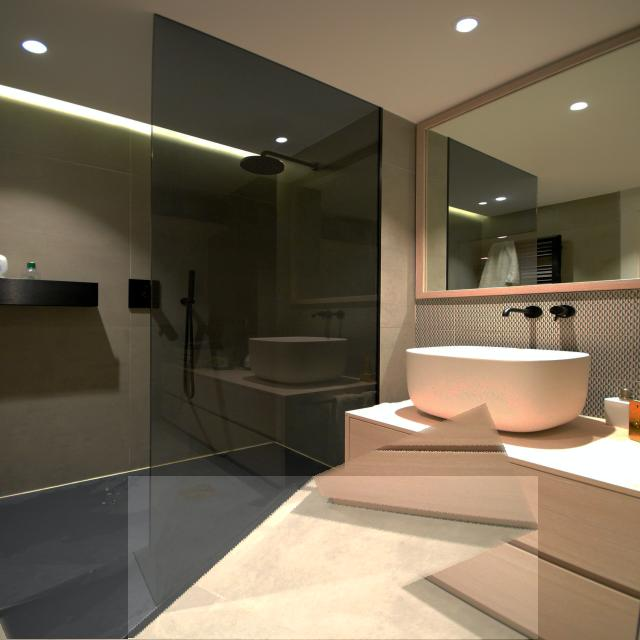floor: (129, 476, 538, 639)
